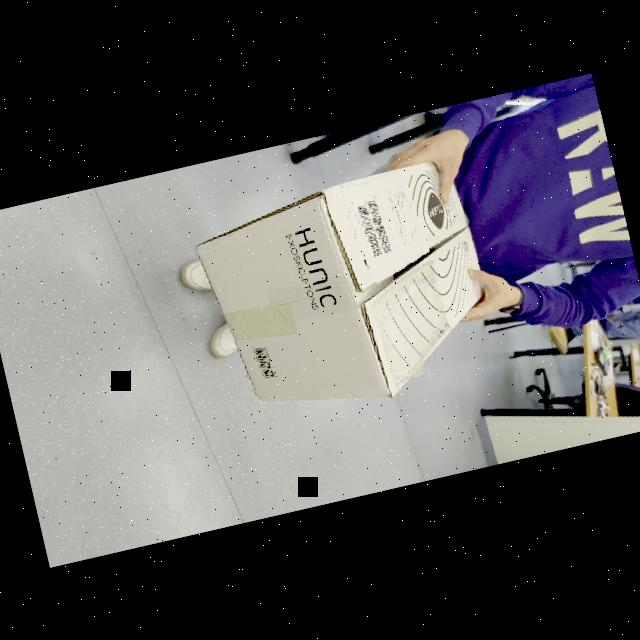cardboard_box: (164, 139, 525, 438)
